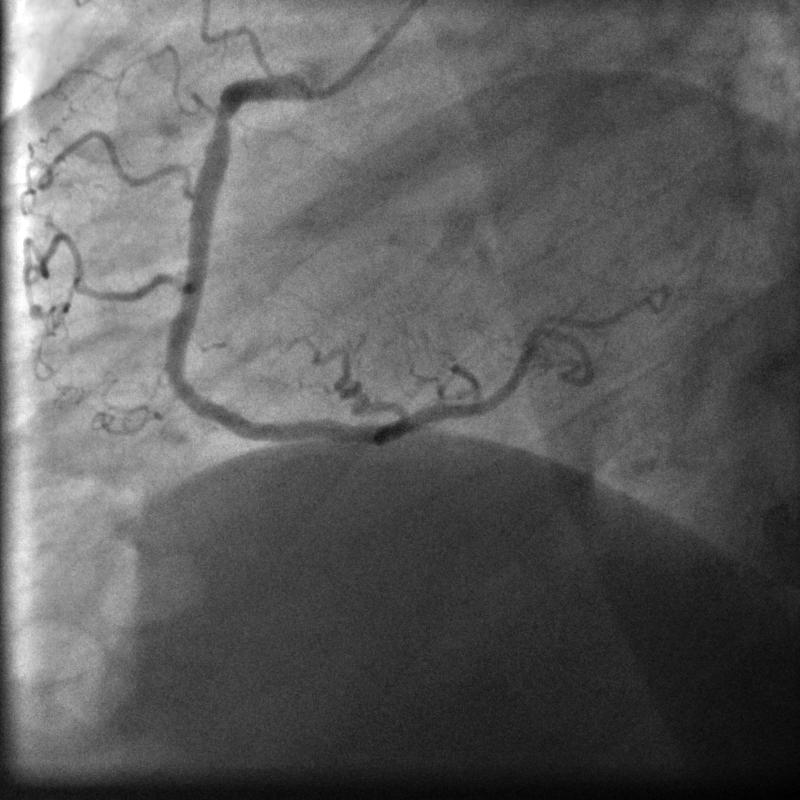Stenosis: (212, 88, 237, 150)
